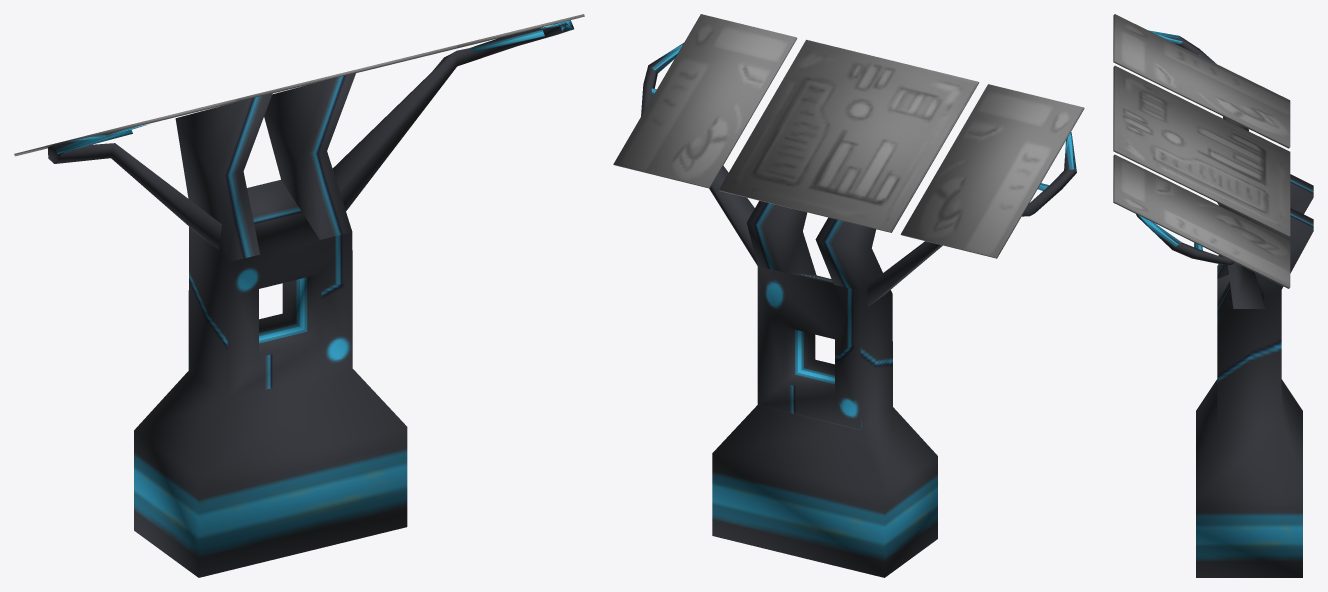
File: SecondTerminal.fbx
3 views of the same model, side by side, from view 1: azimuth 30°, elevation 25°; view 2: azimuth 150°, elevation 25°; view 3: azimuth 270°, elevation 25° (orthographic). The views are drawn at different scales.
Parts seen in each view (by area): view 1: OtherTerminal; view 2: OtherTerminal; view 3: OtherTerminal.
Boxes of the visible parts, x1,y1,x2,y2 form: OtherTerminal: [14, 14, 584, 577]; OtherTerminal: [613, 14, 1084, 577]; OtherTerminal: [1113, 14, 1313, 577].
Size of the model in its own units: 1.57 by 1.5 by 0.636.
